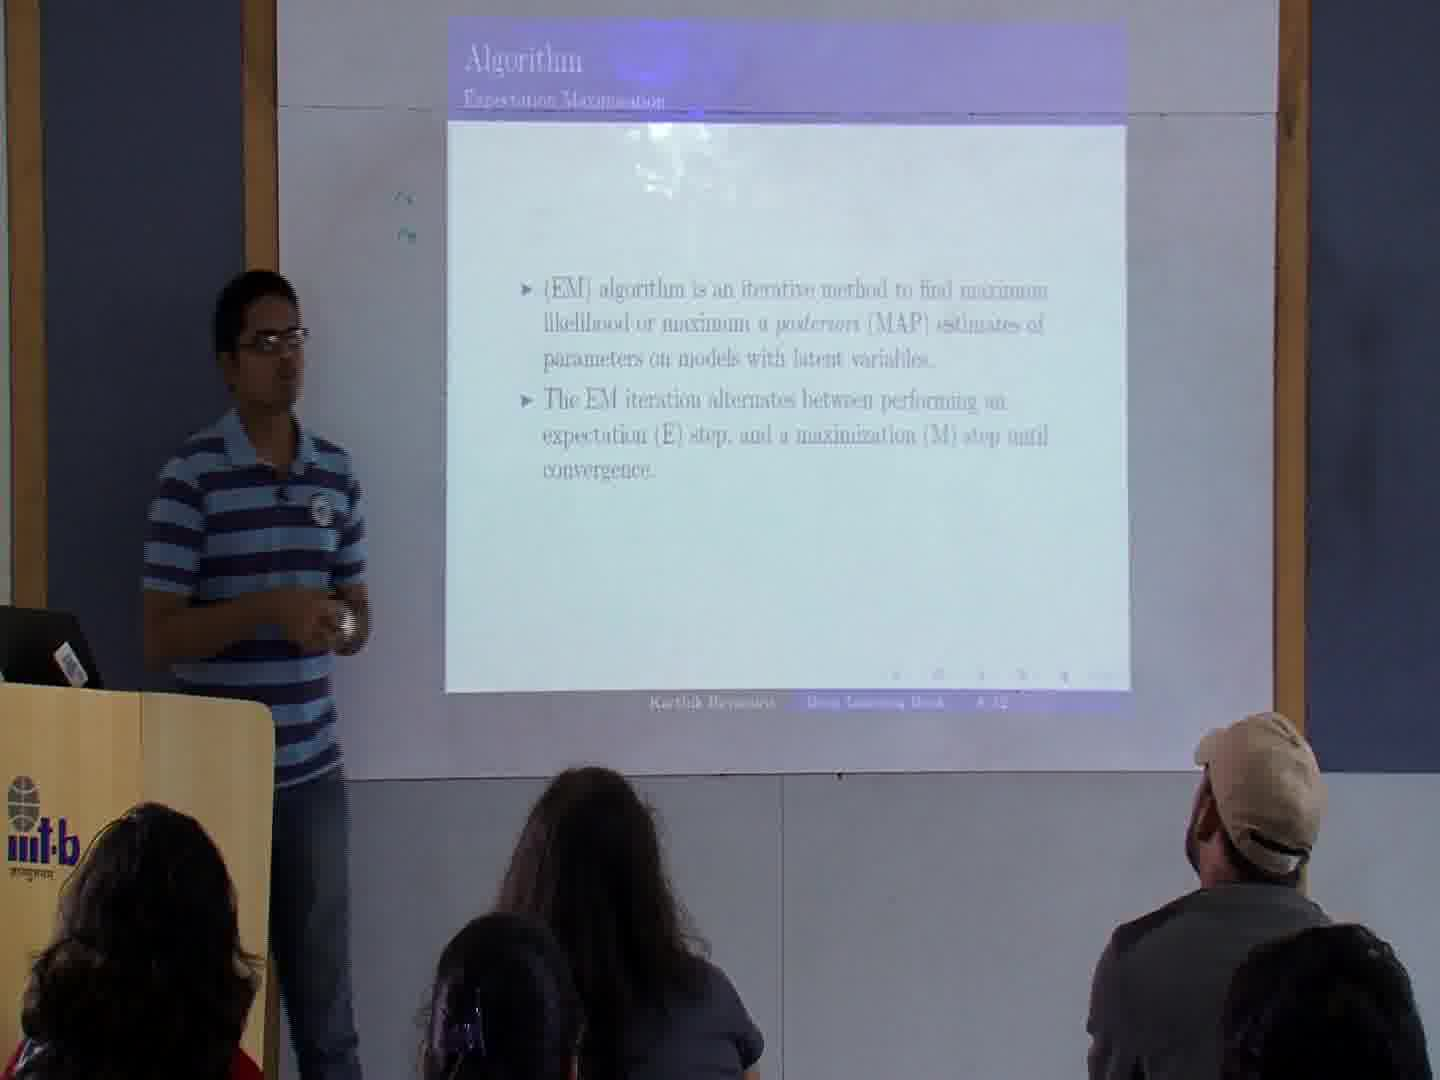slide: (444, 18, 1129, 710)
